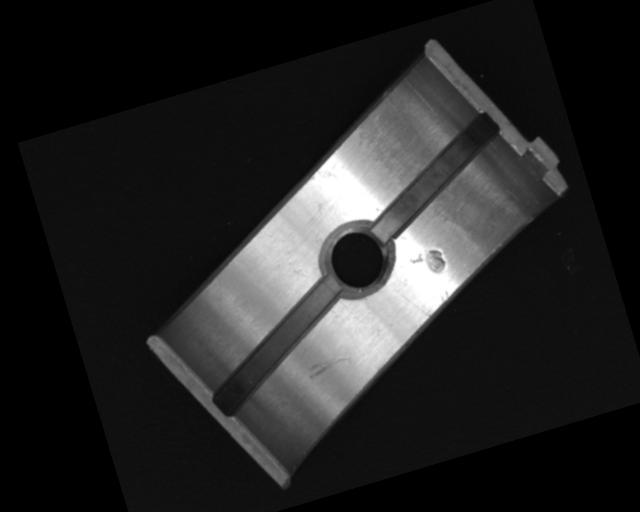bruise: (407, 245, 449, 281)
gap: (192, 273, 364, 418), (350, 111, 520, 244)
hole: (316, 215, 399, 305)
nick: (304, 349, 357, 381)
